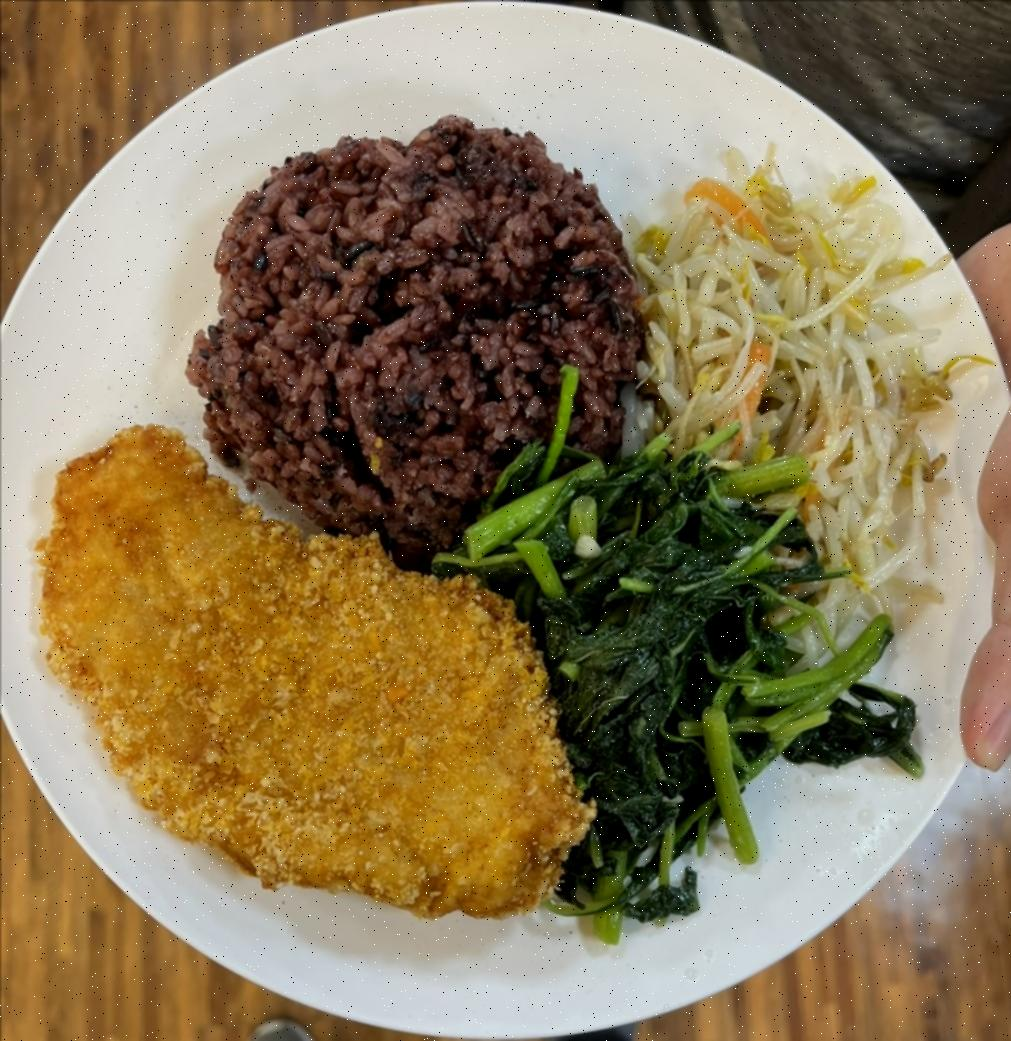big fried chicken leg: (3, 8, 1011, 1041)
braised fish: (202, 122, 628, 532)
braised fish fillet: (470, 423, 918, 922), (633, 148, 945, 590)
braised pork: (36, 431, 584, 916)
